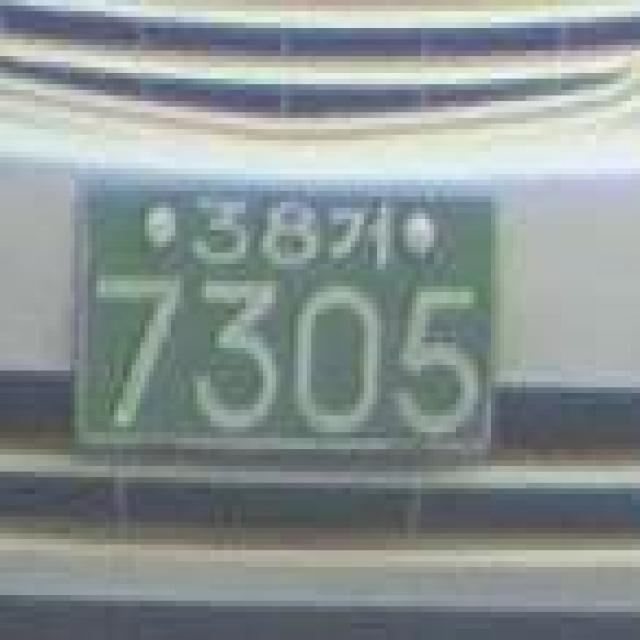illegal_plate: (58, 154, 522, 494)
